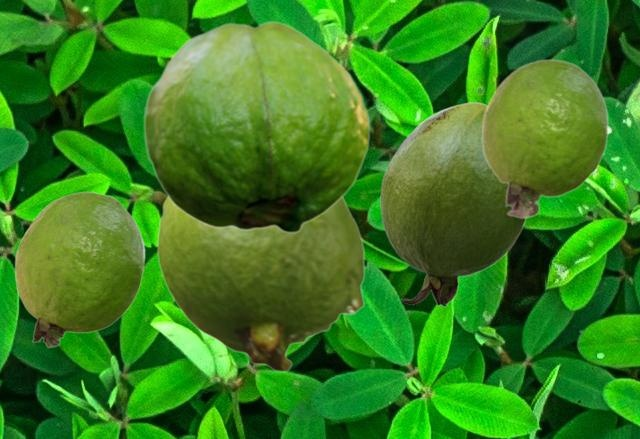guava: (143, 20, 369, 233), (156, 197, 364, 371), (380, 102, 526, 306), (481, 58, 608, 218), (14, 191, 144, 347)
